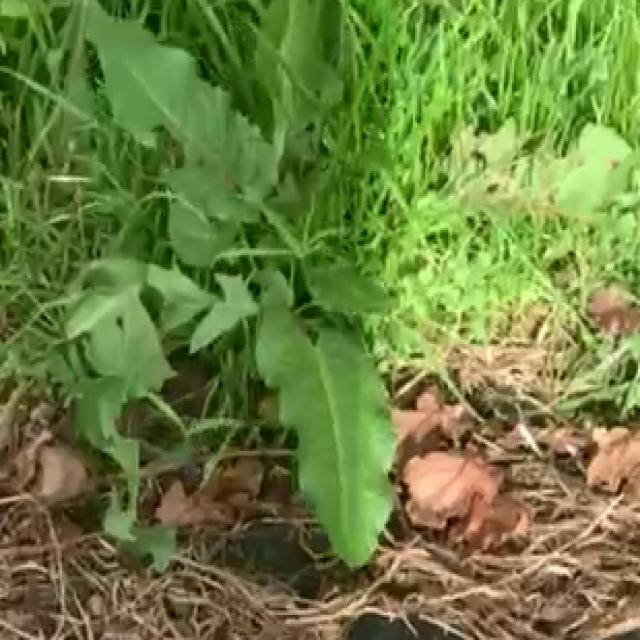organic waste: (28, 0, 456, 560)
